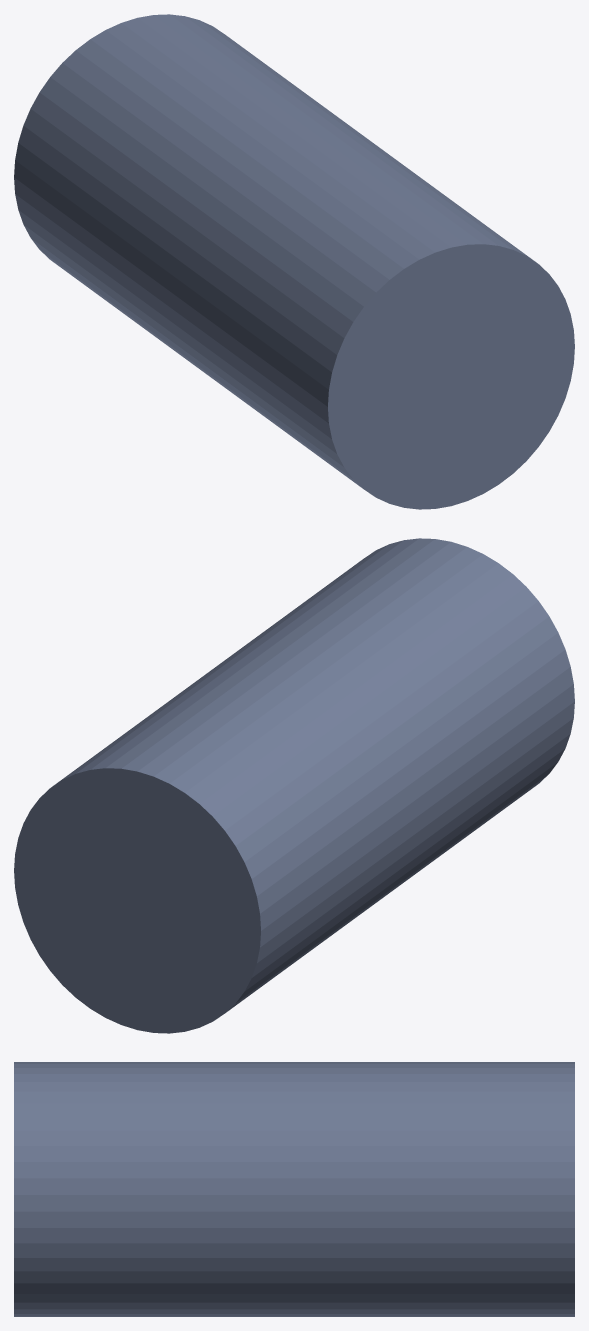
File: cap-electrolytic.glb
3 views of the same model, one above another, from view 1: azimuth 30°, elevation 25°; view 2: azimuth 150°, elevation 25°; view 3: azimuth 270°, elevation 25° (orthographic). The views are drawn at different scales.
Parts seen in each view (by area): view 1: 22 uF electrolytic; view 2: 22 uF electrolytic; view 3: 22 uF electrolytic.
Boxes of the visible parts, bbox=[...] form: 22 uF electrolytic: bbox=[14, 14, 574, 509]; 22 uF electrolytic: bbox=[14, 538, 574, 1033]; 22 uF electrolytic: bbox=[14, 1062, 574, 1316].
Size of the model in its own units: 0.005 by 0.005 by 0.011.
